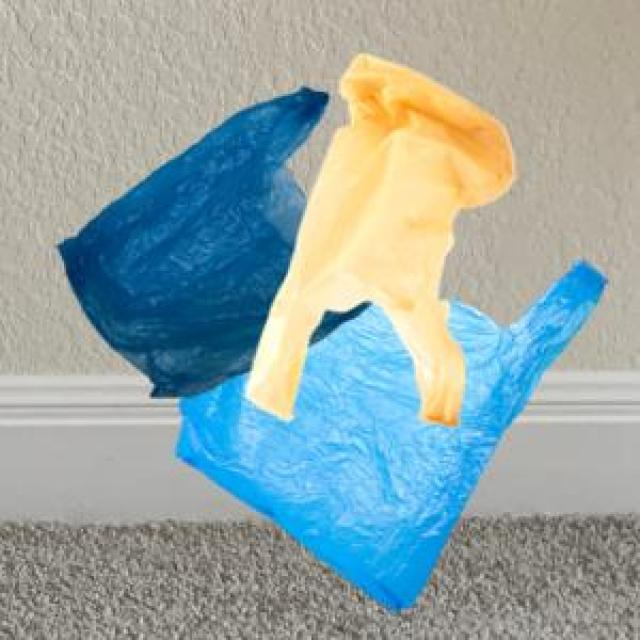plastic: (30, 38, 610, 615)
